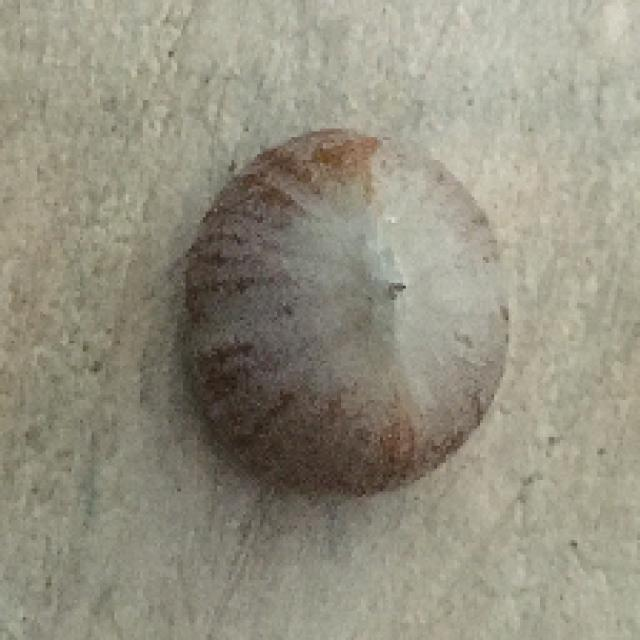qualityHazelnut: (189, 123, 512, 496)
